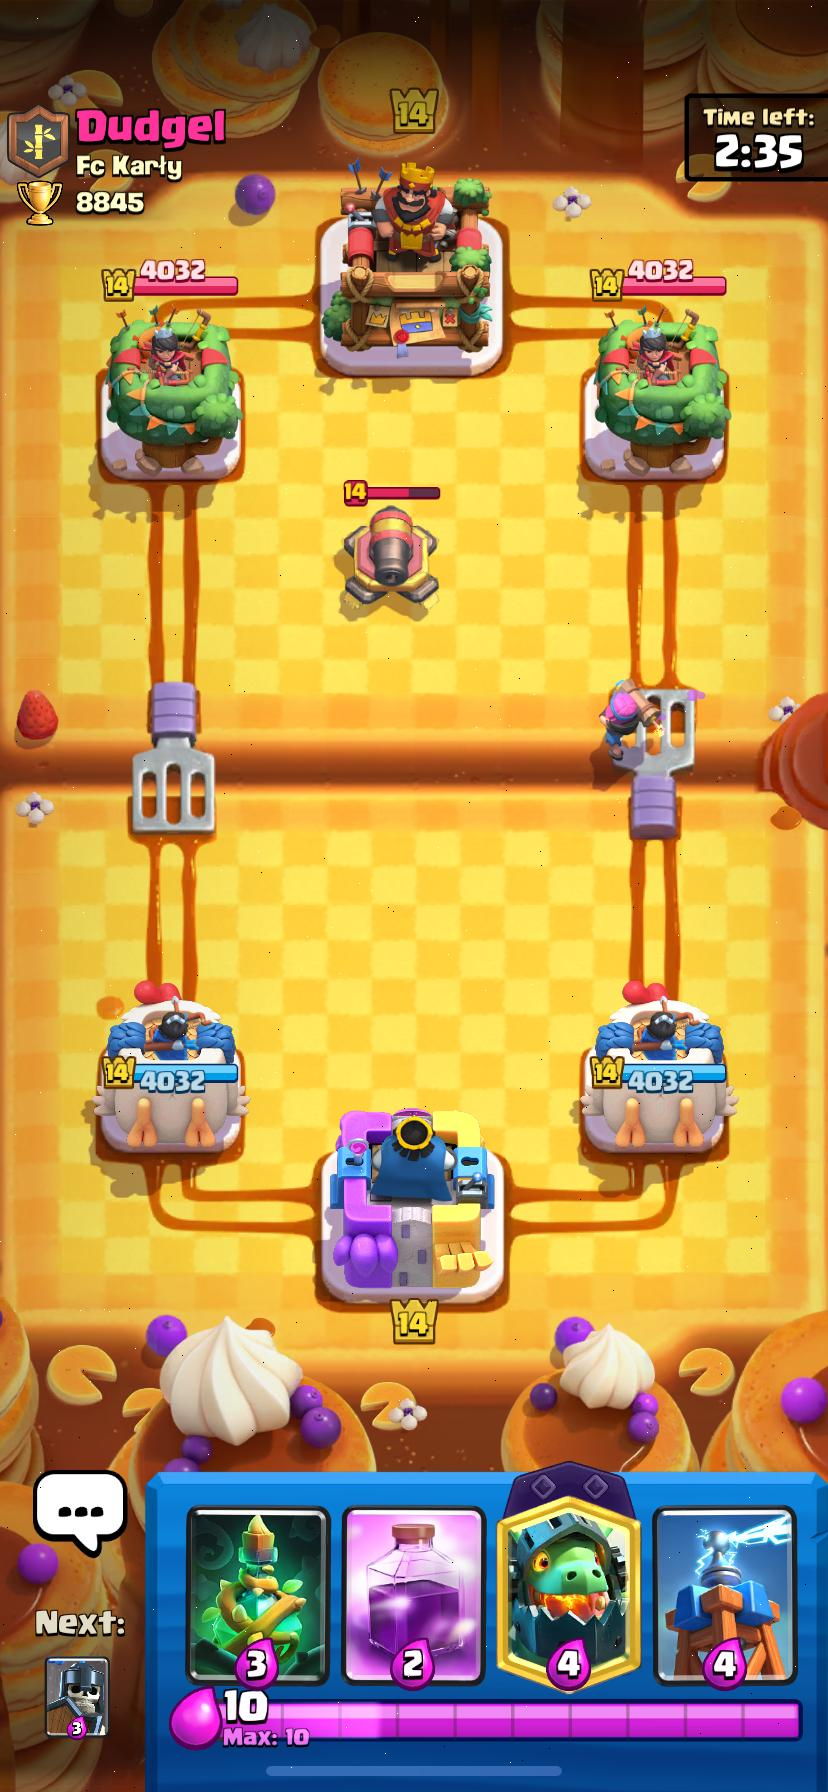EKingTower: (323, 163, 491, 351)
Ecan: (343, 502, 437, 607)
EnemyPrincessTower: (595, 311, 729, 473), (108, 310, 241, 457)
OFirecrack: (599, 678, 661, 769)
OwnKingTower: (331, 1109, 493, 1299)
OwnPrincessTower: (580, 982, 735, 1151)
TowerDown: (93, 1027, 248, 1152)
